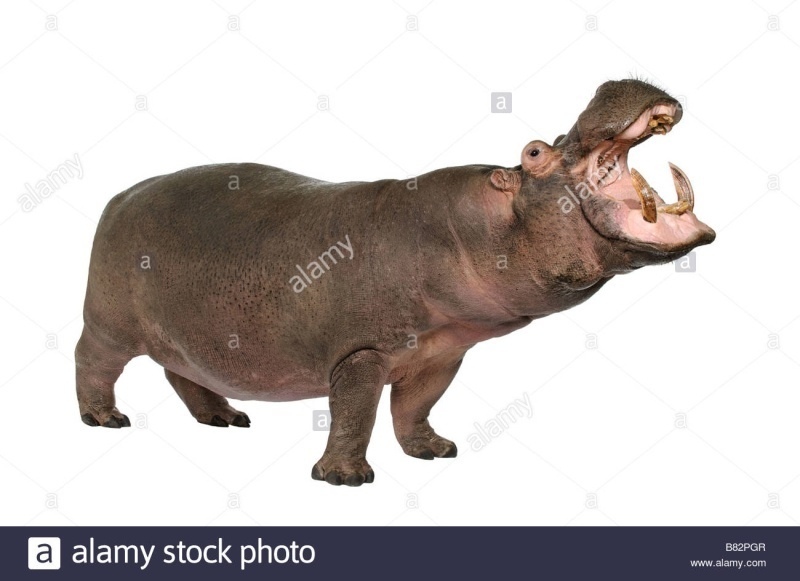hipopotamo: (58, 74, 724, 489)
